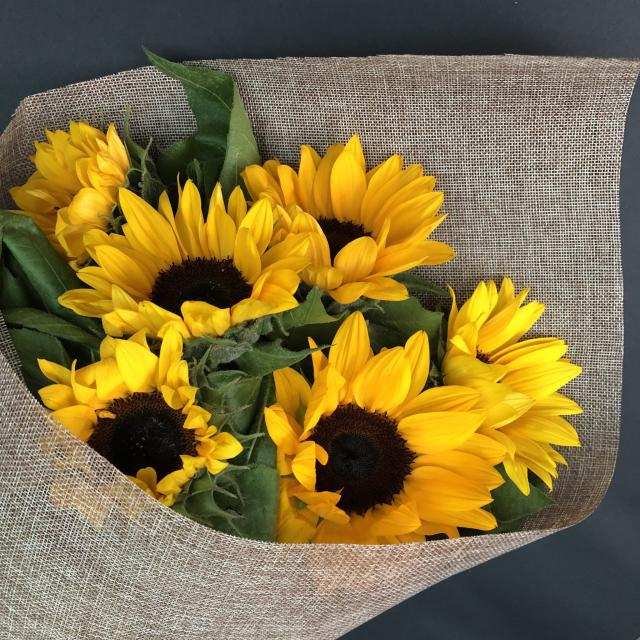sunflower: (251, 314, 515, 564), (48, 177, 316, 342), (26, 335, 243, 527), (228, 133, 462, 305)
